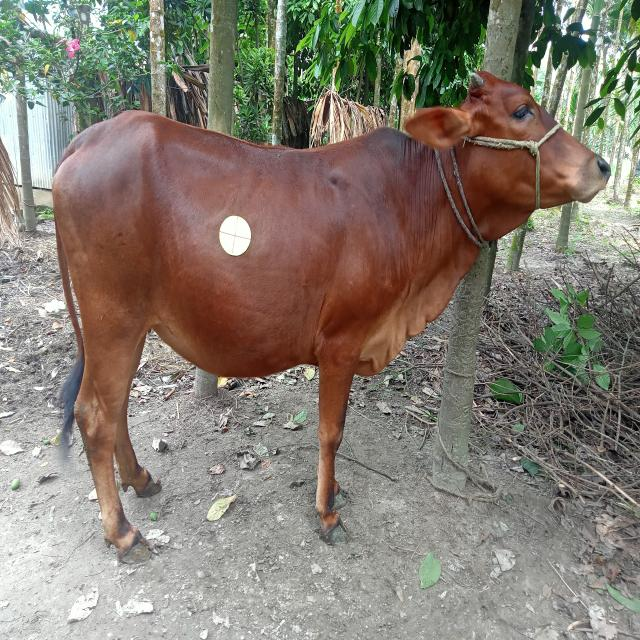badan_sapi: (54, 147, 391, 383)
sapi: (38, 62, 617, 568)
